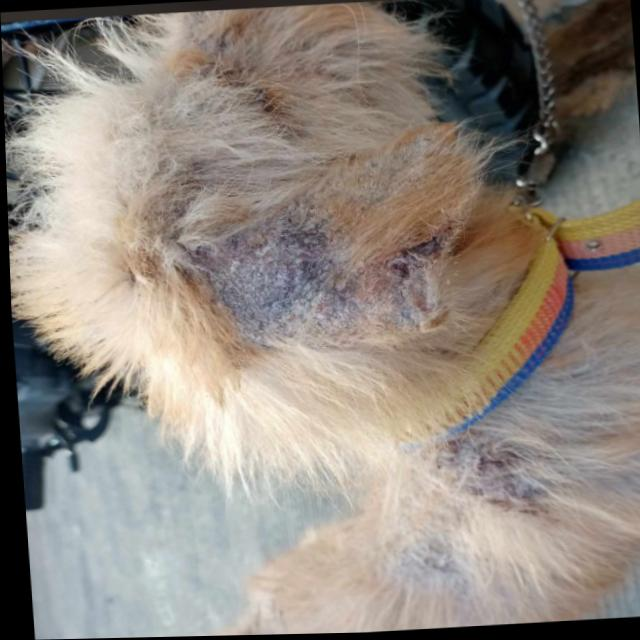demodicosis: (205, 202, 401, 362), (447, 444, 549, 523)
